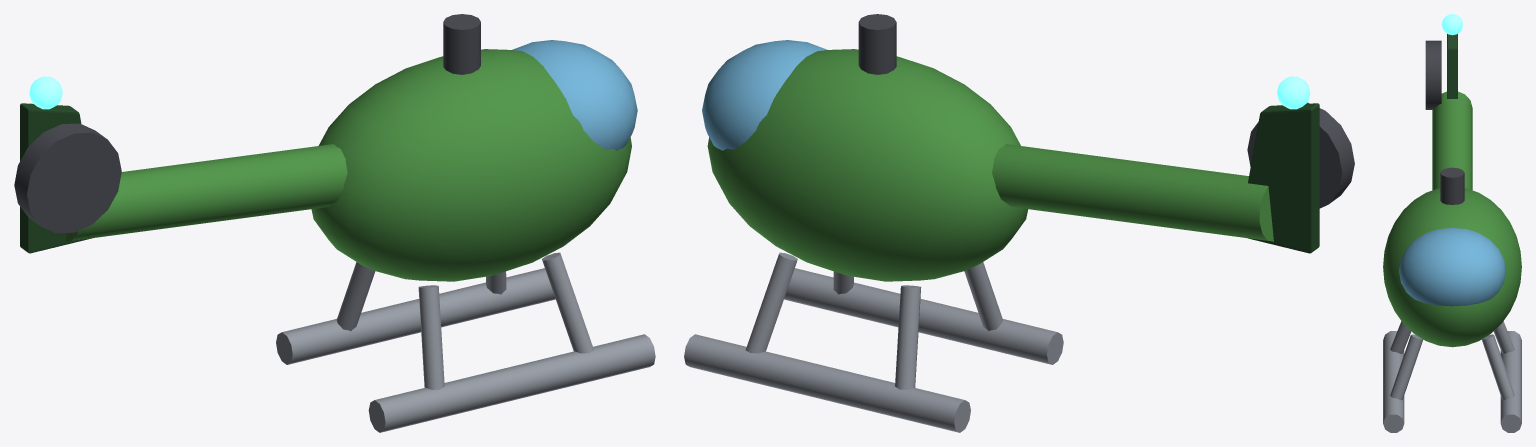
The model's file is heli_r.glb.
The picture shows the model from 3 angles, left to right: view 1: azimuth 30°, elevation 25°; view 2: azimuth 150°, elevation 25°; view 3: azimuth 270°, elevation 25°; orthographic projection. The views are drawn at different scales.
Visible parts, largest first — view 1: body, boom, skid, tail rotor, skid.001, canopy, fin, strut, mast, strut.001, strut.002, lamp; view 2: body, boom, skid.001, fin, skid, canopy, tail rotor, mast, strut.002, strut.003, strut, lamp; view 3: body, canopy, boom, skid, skid.001, tail rotor, strut.001, strut.003, mast, fin, strut, strut.002 (+1 smaller).
Boxes of the visible parts, bbox=[...] form: body: bbox=[311, 49, 631, 281]; boom: bbox=[65, 144, 347, 241]; skid: bbox=[368, 334, 655, 432]; tail rotor: bbox=[14, 123, 121, 233]; skid.001: bbox=[276, 268, 555, 364]; canopy: bbox=[512, 40, 637, 150]; fin: bbox=[20, 103, 91, 253]; strut: bbox=[418, 285, 444, 389]; mast: bbox=[443, 14, 480, 74]; strut.001: bbox=[542, 252, 593, 353]; strut.002: bbox=[336, 262, 375, 331]; lamp: bbox=[29, 76, 62, 109]; body: bbox=[707, 49, 1027, 281]; boom: bbox=[992, 144, 1273, 241]; skid.001: bbox=[684, 334, 970, 432]; fin: bbox=[1248, 103, 1319, 253]; skid: bbox=[784, 268, 1063, 364]; canopy: bbox=[702, 40, 827, 150]; tail rotor: bbox=[1247, 102, 1354, 208]; mast: bbox=[858, 14, 896, 74]; strut.002: bbox=[895, 285, 921, 389]; strut.003: bbox=[745, 252, 797, 353]; strut: bbox=[964, 262, 1002, 330]; lamp: bbox=[1277, 76, 1310, 109]; body: bbox=[1383, 188, 1521, 347]; canopy: bbox=[1399, 228, 1505, 306]; boom: bbox=[1432, 91, 1472, 190]; skid: bbox=[1383, 331, 1404, 432]; skid.001: bbox=[1500, 331, 1521, 432]; tail rotor: bbox=[1425, 40, 1441, 109]; strut.001: bbox=[1390, 334, 1423, 400]; strut.003: bbox=[1481, 334, 1514, 400]; mast: bbox=[1440, 167, 1464, 204]; fin: bbox=[1447, 34, 1457, 98]; strut: bbox=[1390, 321, 1411, 353]; strut.002: bbox=[1493, 321, 1514, 353].
Size of the model in its own units: 17 by 10.18 by 5.2.
